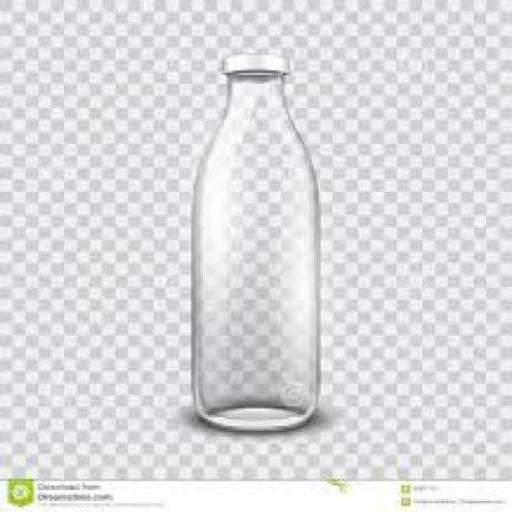glass: (189, 70, 318, 428)
metal: (219, 53, 283, 73)
